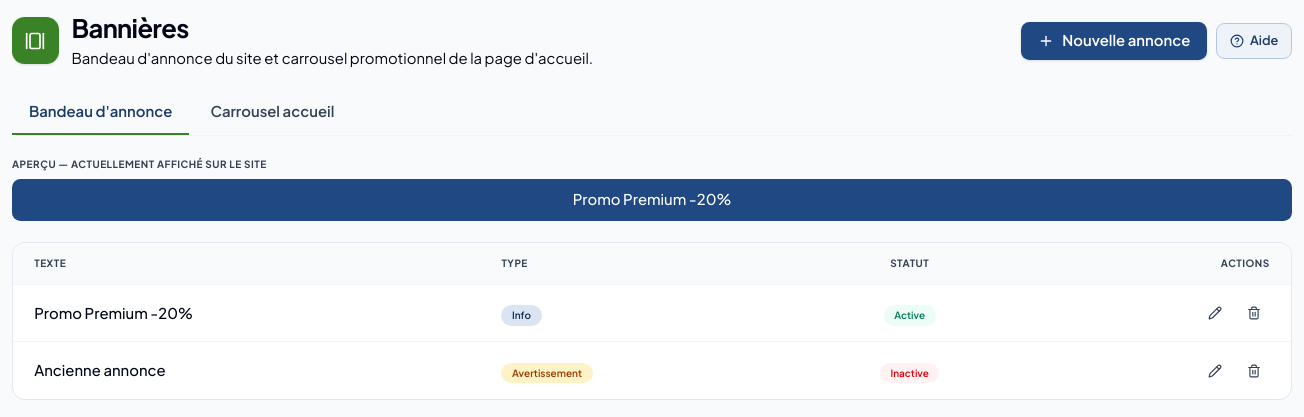
Scenario: 🖼️ UI & Logique - Composant <AdminBannieres /> › 🔴 EC3 : Aucune bannière configurée dans le carrousel
Expected: the text "Ancienne annonce" is shown, [34,361,166,379]
Click the tab "Carrousel accueil": [272, 113] box [194,91,351,135]
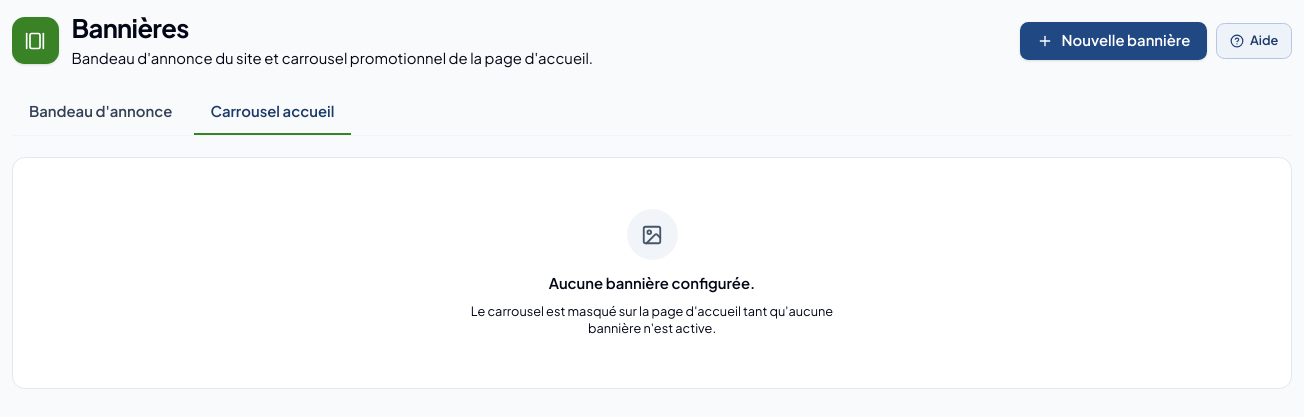
Expected: the text "Aucune bannière configurée." is shown, [549,273,755,294]
